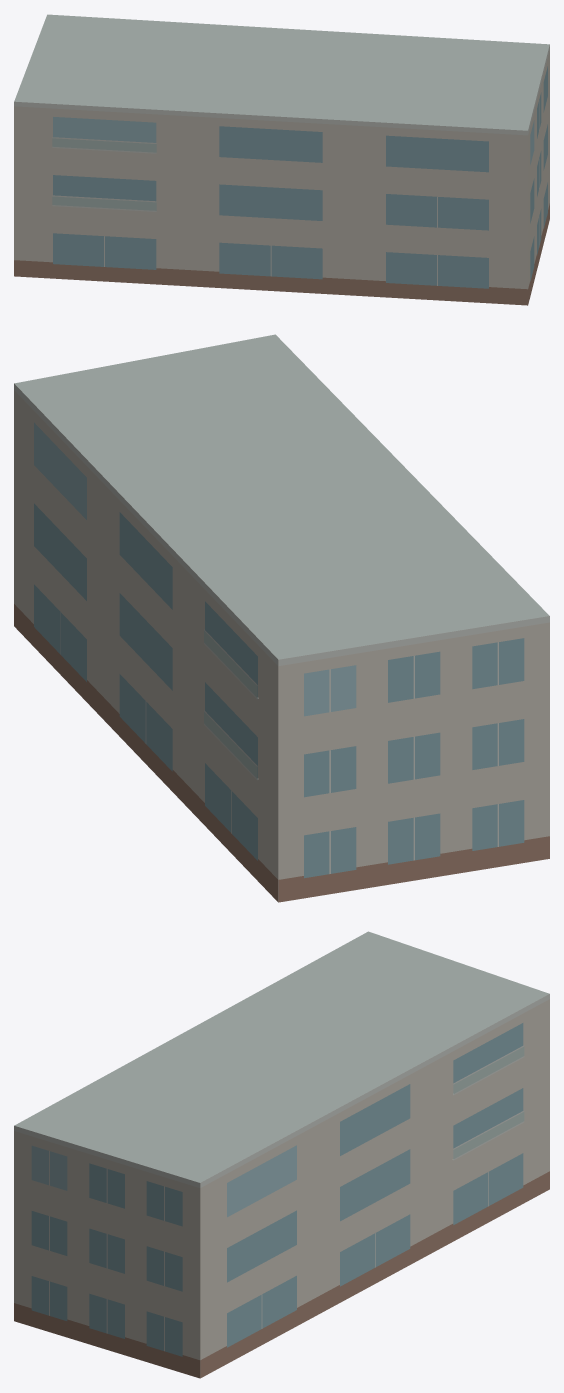
File: survey-upis-32887347.glb
The picture shows the model from 3 angles, top to bottom: view 1: azimuth 30°, elevation 25°; view 2: azimuth 150°, elevation 25°; view 3: azimuth 270°, elevation 25°; orthographic projection. The views are drawn at different scales.
Visible parts, largest first — view 1: survey-upis-32887347.tmp; view 2: survey-upis-32887347.tmp; view 3: survey-upis-32887347.tmp.
Boxes of the visible parts, x1,y1,x2,y2 form: survey-upis-32887347.tmp: (14,14,549,305); survey-upis-32887347.tmp: (14,334,549,902); survey-upis-32887347.tmp: (14,931,549,1378).
Size of the model in its own units: 25.26 by 9.15 by 22.74.
